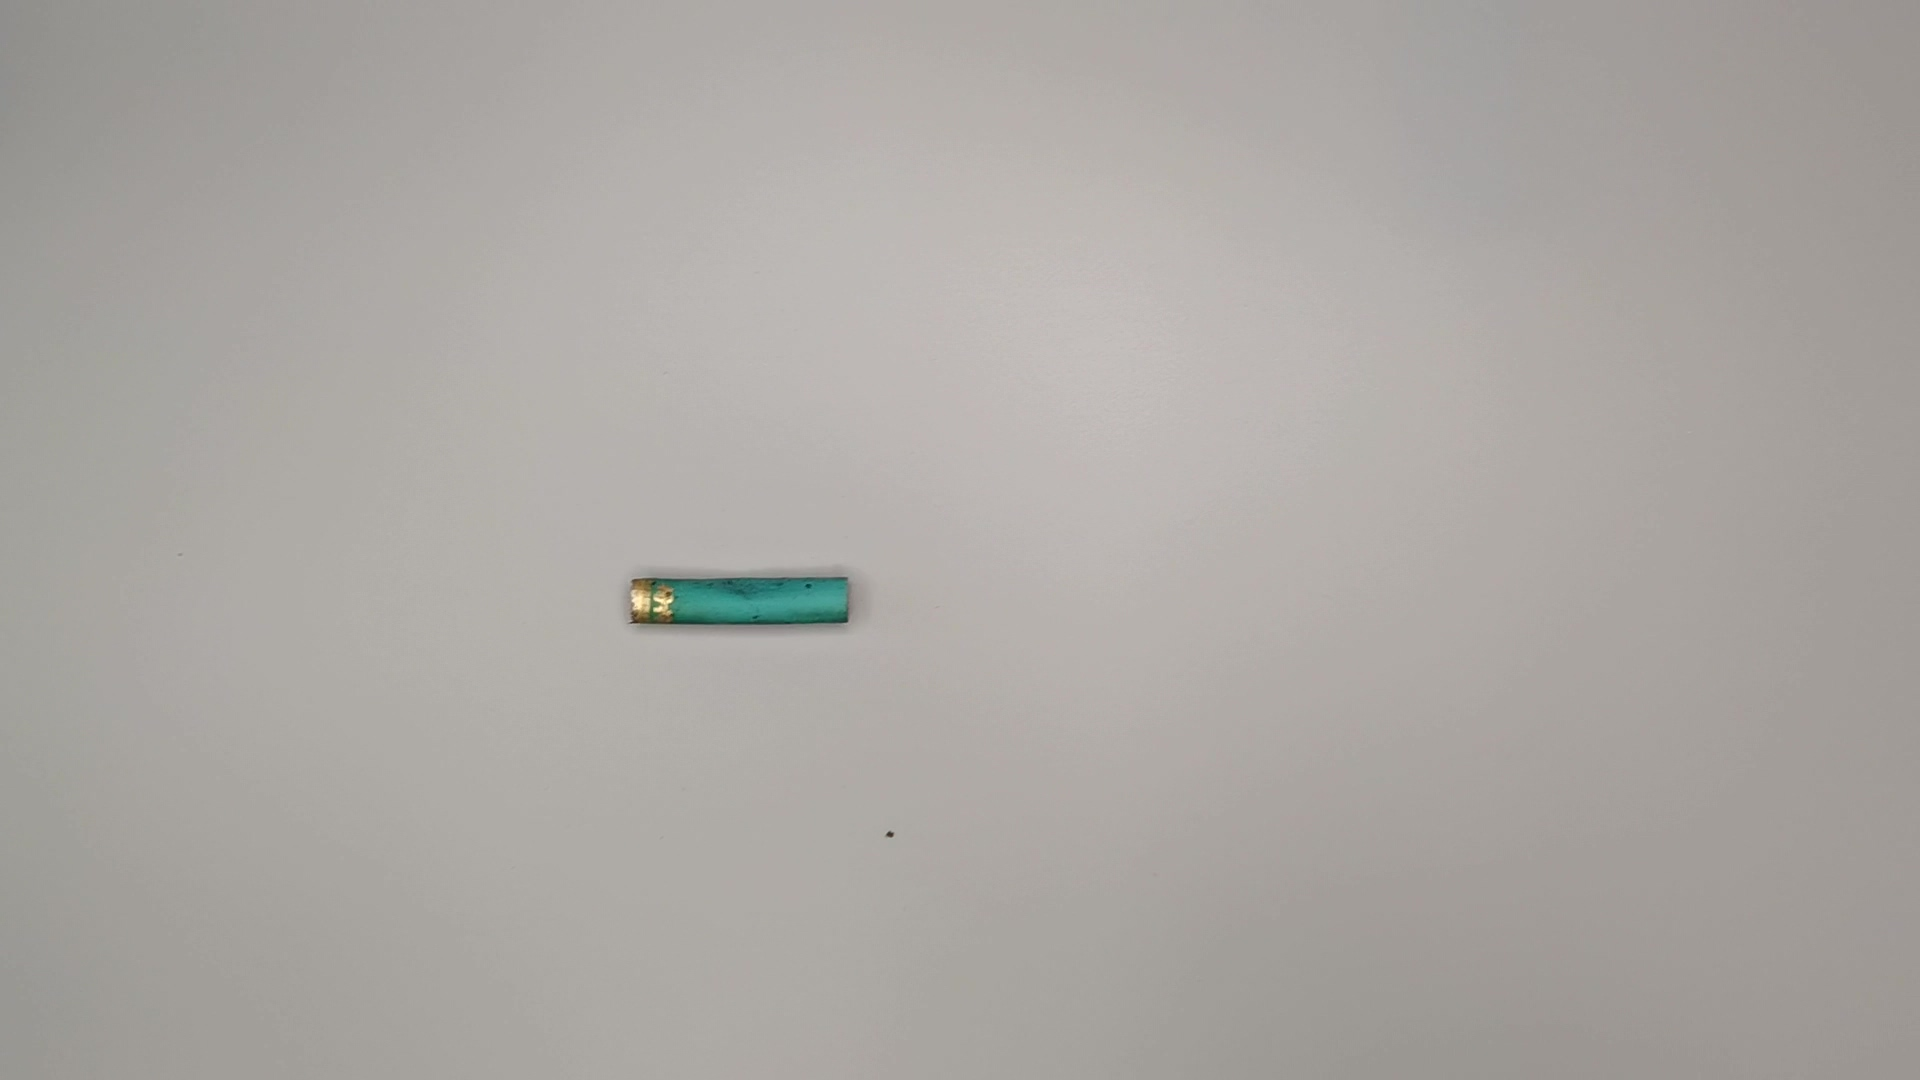cigarette: (611, 560, 858, 642)
